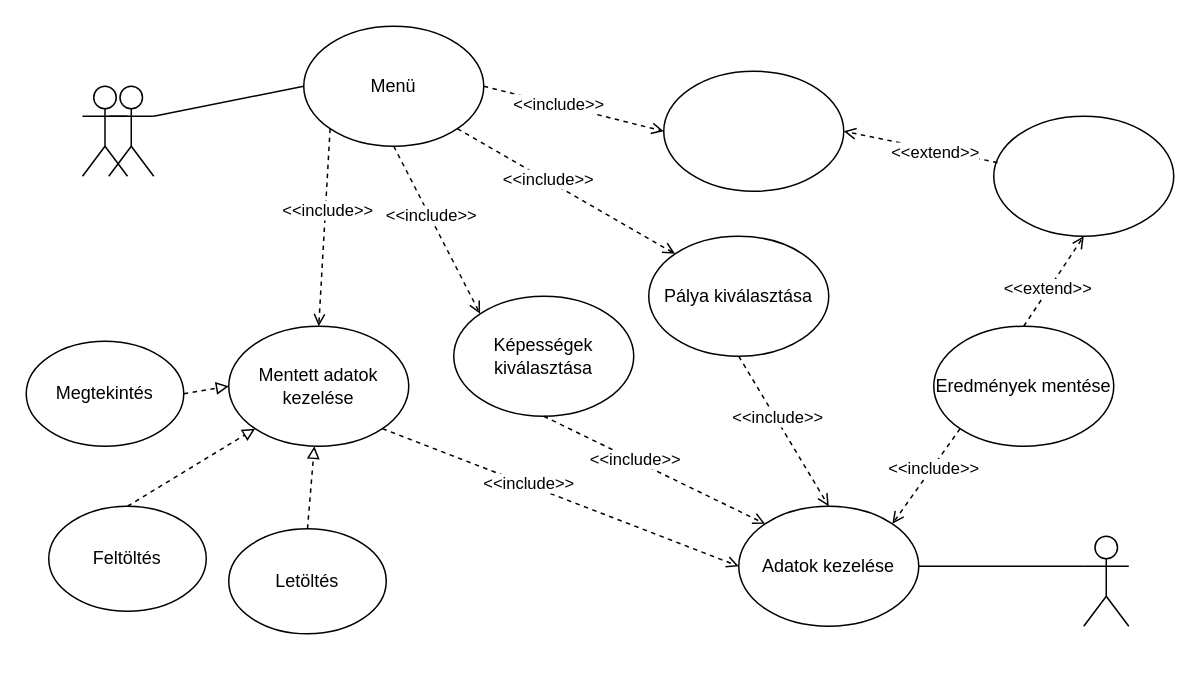
The diagram is 1200 pixels wide and 684 high, and some of its shapes have lost their labels. The centre of each missing label's shape, as x and y in pixels:
"Backend" belongs at [1105,580].
"Játék" belongs at [1083,175].
"Játék indítása" belongs at [753,130].
"Játékosok" belongs at [130,130].
